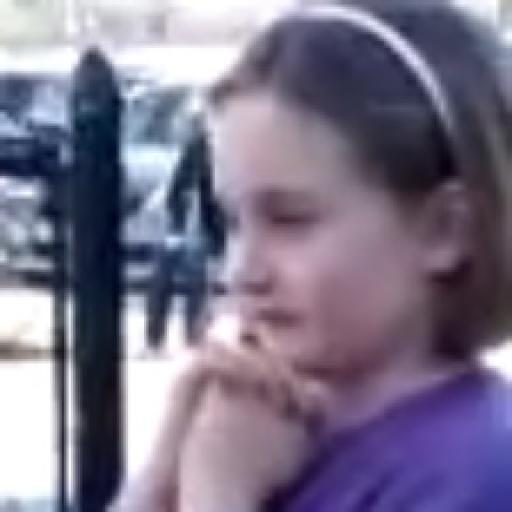Autism: (102, 60, 512, 450)
